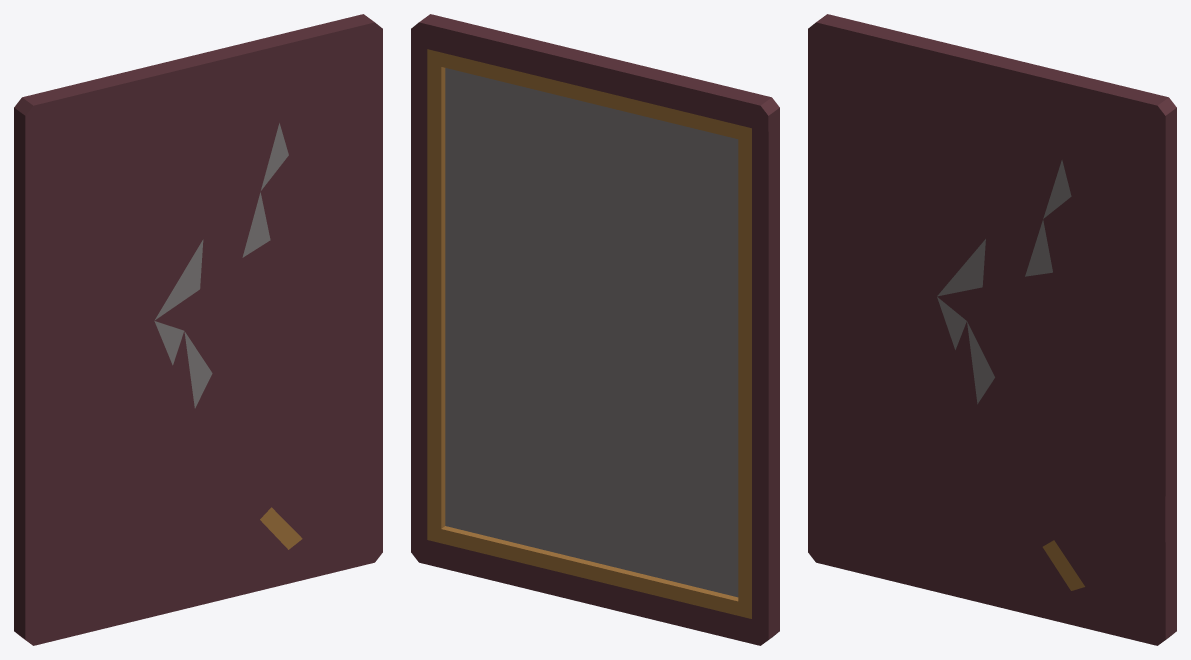
The model's file is picture-nature-mountains.fbx.
The picture shows the model from 3 angles, left to right: view 1: azimuth 30°, elevation 25°; view 2: azimuth 150°, elevation 25°; view 3: azimuth 330°, elevation 25°; orthographic projection.
Visible parts, largest first — view 1: picture-nature-mountains; view 2: picture-nature-mountains; view 3: picture-nature-mountains.
Boxes of the visible parts, bbox=[...] form: picture-nature-mountains: bbox=[14, 14, 382, 645]; picture-nature-mountains: bbox=[411, 14, 779, 645]; picture-nature-mountains: bbox=[808, 14, 1176, 645].
Bounding box in the file's own units: 0.9 × 1.3 × 0.05.
